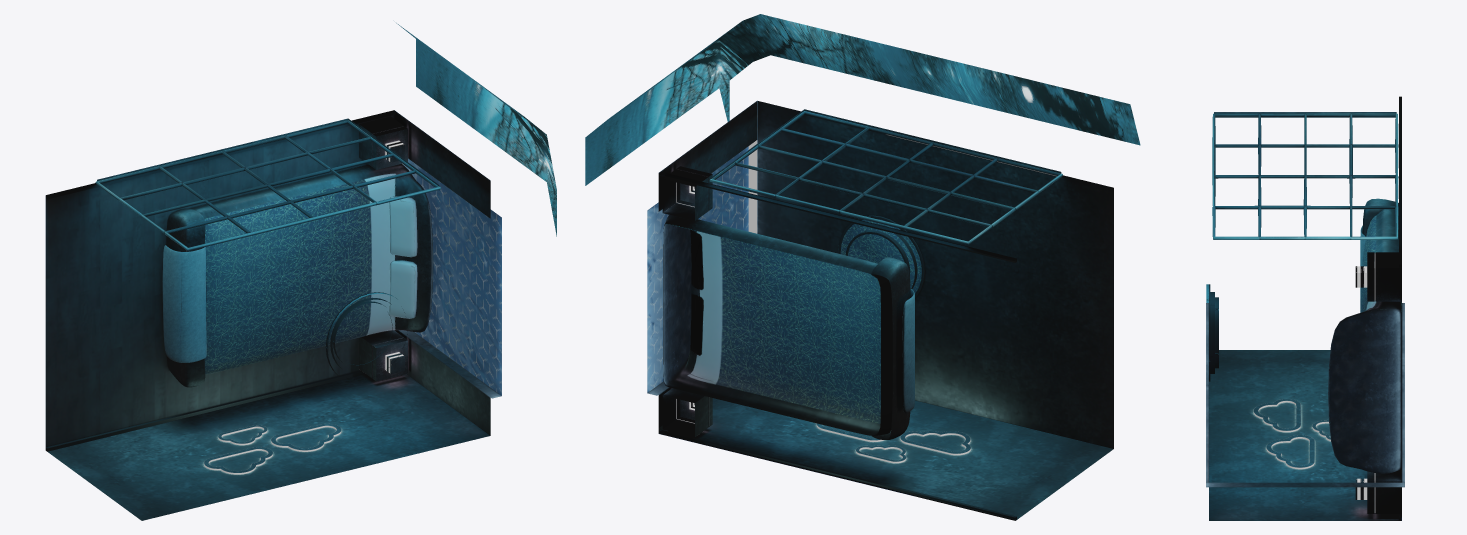
File: cozy-modern-bedroom-ea25ad.glb
3 renders of one model, left to right at view 1: azimuth 30°, elevation 25°; view 2: azimuth 150°, elevation 25°; view 3: azimuth 270°, elevation 25°, orthographic. The views are drawn at different scales.
Parts seen in each view (by area): view 1: PropMesh; view 2: PropMesh; view 3: PropMesh.
Boxes of the visible parts, left/top/right/bottom form: PropMesh: left=45, top=23, right=556, bottom=520; PropMesh: left=585, top=14, right=1140, bottom=520; PropMesh: left=1206, top=96, right=1404, bottom=520.
Size of the model in its own units: 2.77 by 2.2 by 1.69.
Materials: 9 (8 with a texture image).
